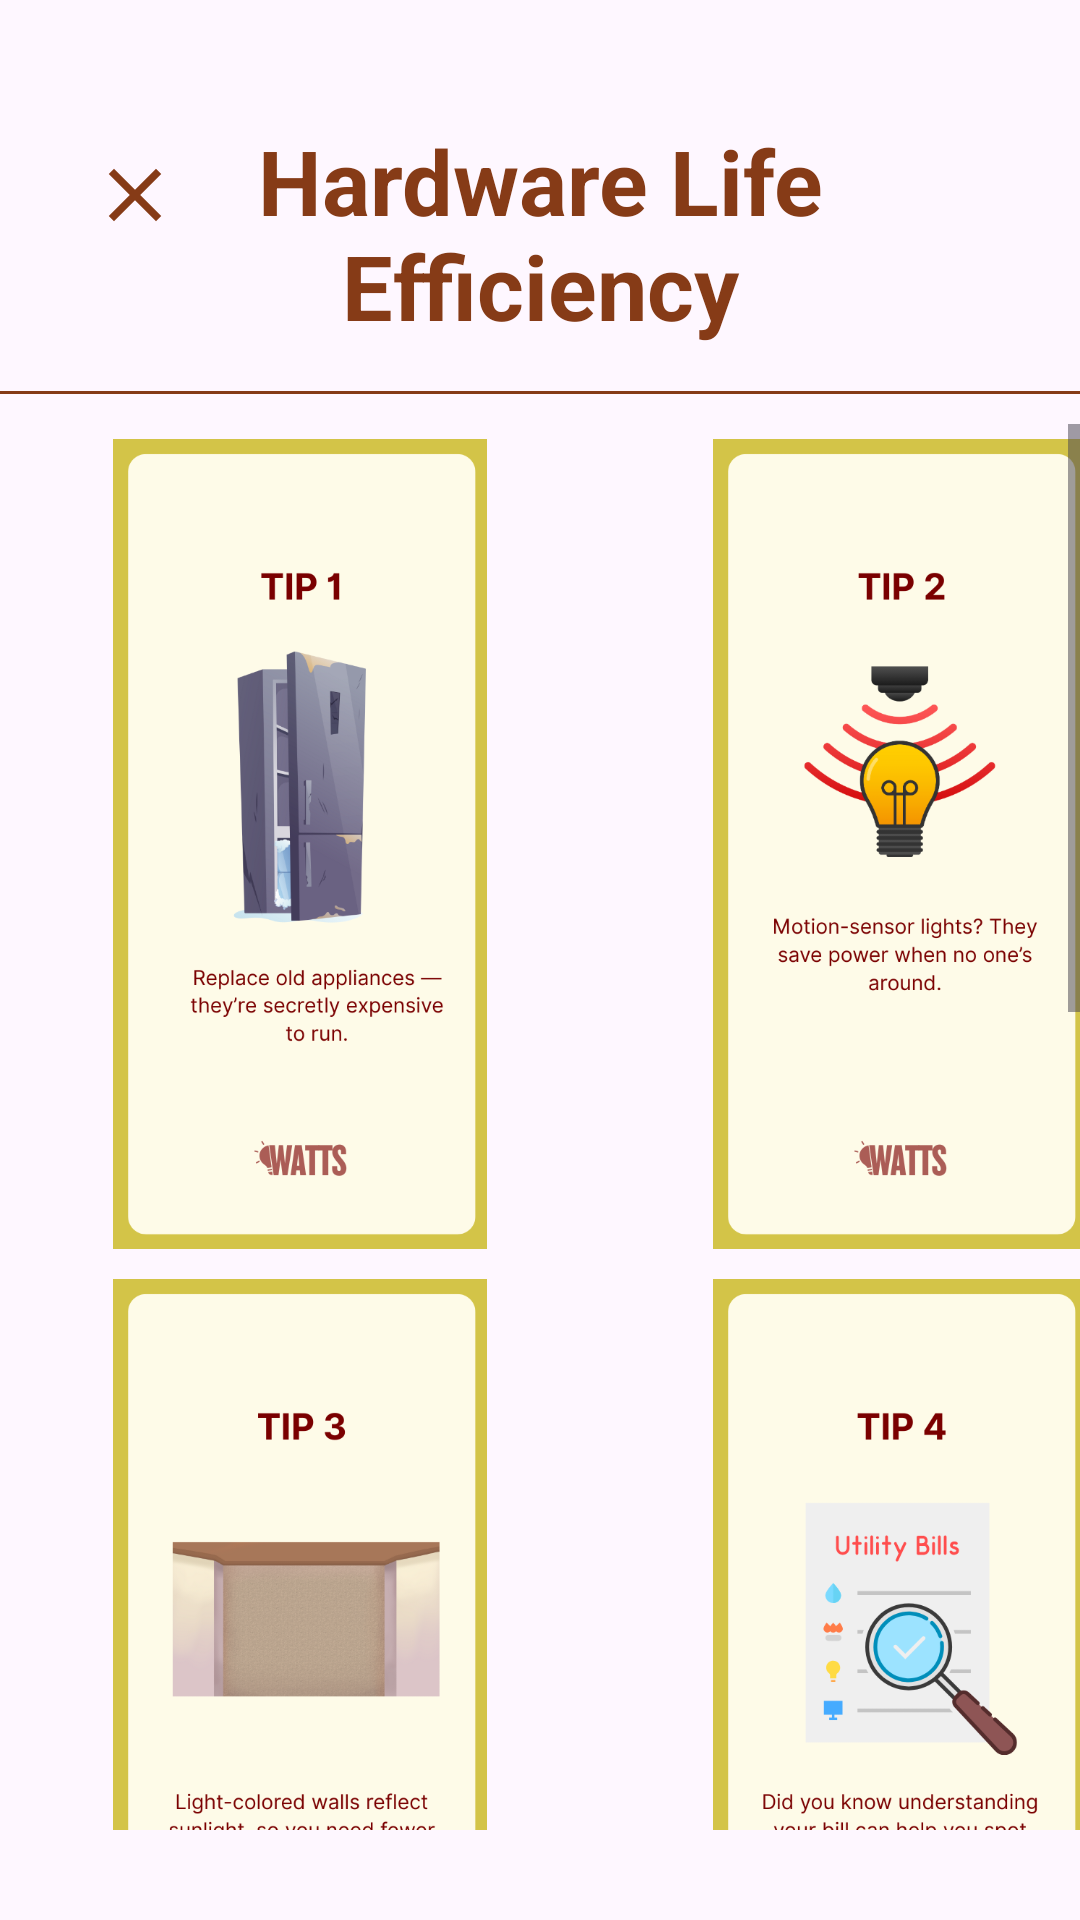

Point at icon controls on the screen. Image size 1080 x 1920, points as [x,y].
close: [135,195]
